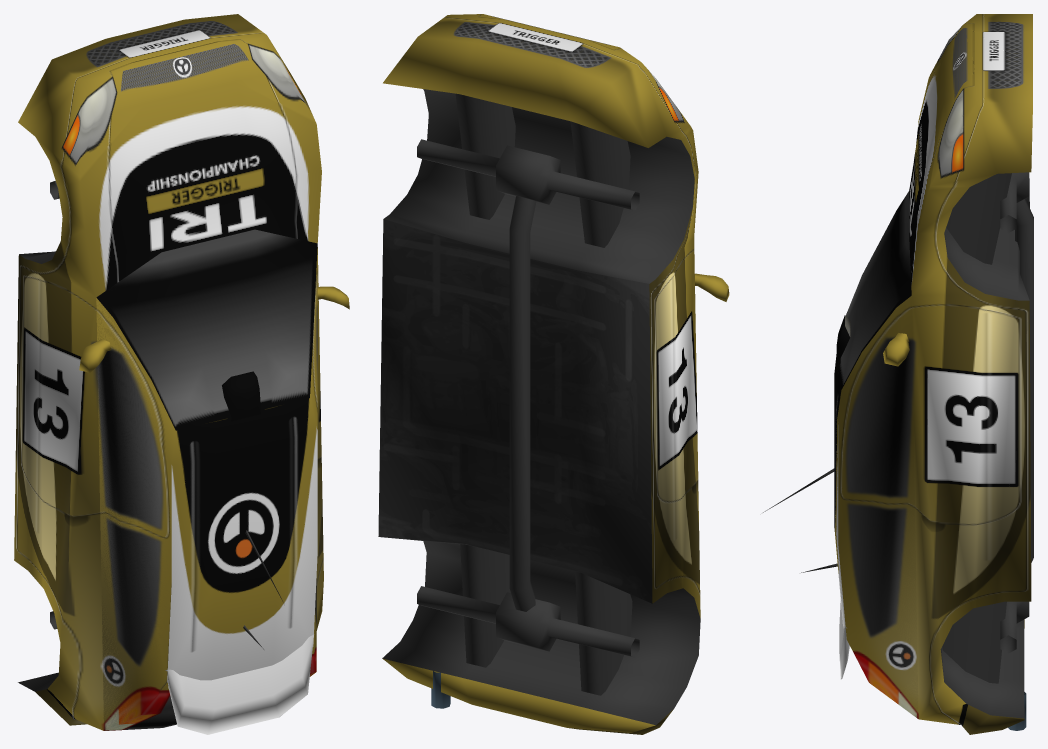
The model's file is fox_wrc.obj.
3 renders of one model, left to right at view 1: azimuth 30°, elevation 25°; view 2: azimuth 150°, elevation 25°; view 3: azimuth 270°, elevation 25°, orthographic. The views are drawn at different scales.
Parts seen in each view (by area): view 1: body_Box01.005; view 2: body_Box01.005; view 3: body_Box01.005.
Part boxes in pixels (x1=…): body_Box01.005: x1=14, y1=14, x2=349, y2=734; body_Box01.005: x1=378, y1=14, x2=729, y2=734; body_Box01.005: x1=763, y1=14, x2=1033, y2=734.
Size of the model in its own units: 1.77 by 4.15 by 1.61.
Materials: 2 (2 with a texture image).
